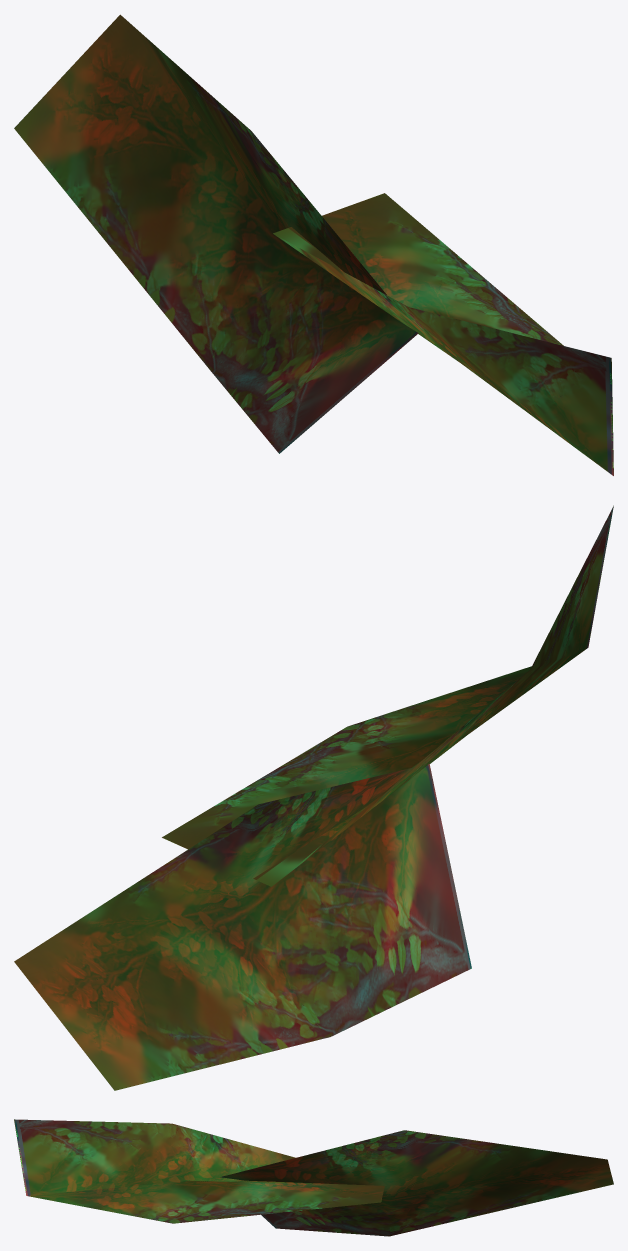
File: Twiner_02_A.fbx
The picture shows the model from 3 angles, top to bottom: view 1: azimuth 30°, elevation 25°; view 2: azimuth 150°, elevation 25°; view 3: azimuth 270°, elevation 25°; orthographic projection. The views are drawn at different scales.
Visible parts, largest first — view 1: Twiner_02_A; view 2: Twiner_02_A; view 3: Twiner_02_A.
Part boxes in pixels (x1,y1,x2,y2): Twiner_02_A: (14,14,613,475); Twiner_02_A: (14,505,613,1090); Twiner_02_A: (14,1119,613,1236).
Bounding box in the file's own units: 1.39 × 1.54 × 6.13.
